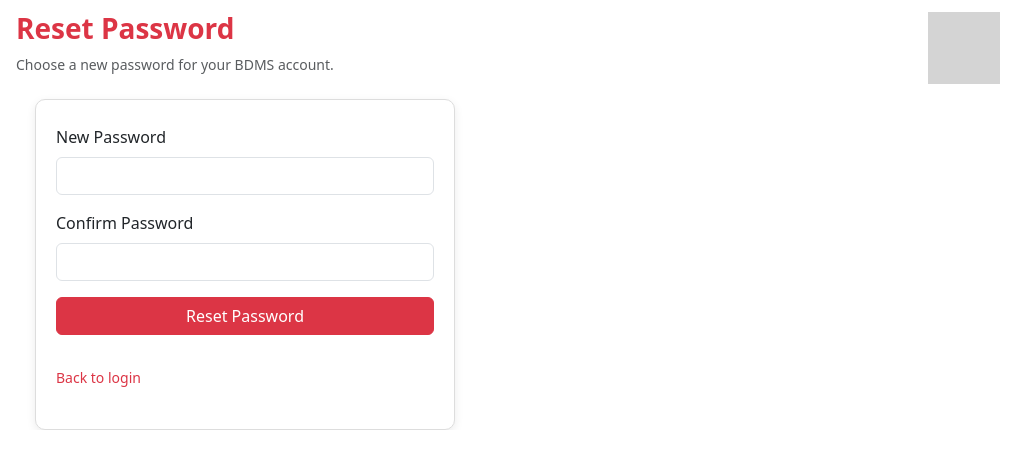
Scenario: ResetPassword › shows mismatch message when passwords differ
In the 1st password field: {"x": 245, "y": 176} [56,157,434,195], type "Password1!"
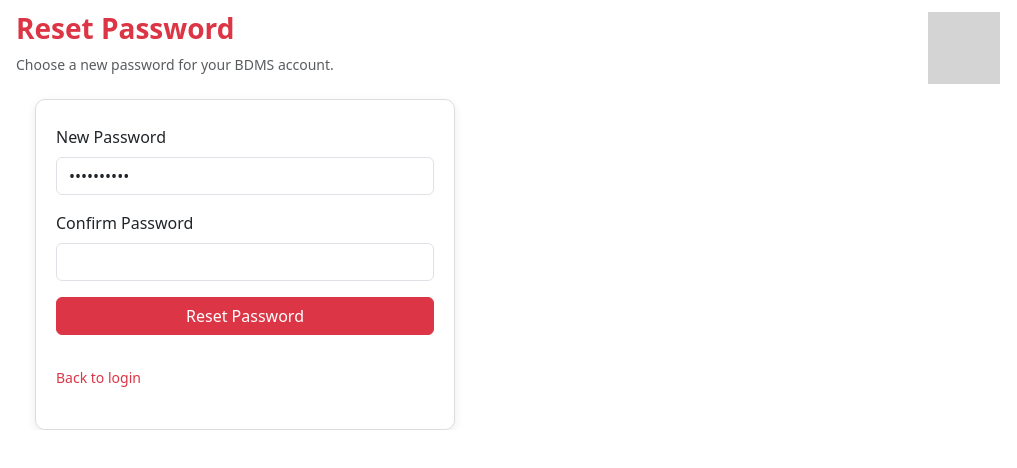
In the password field below "Confirm Password": {"x": 245, "y": 262} [56,243,434,281], type "Password2!"
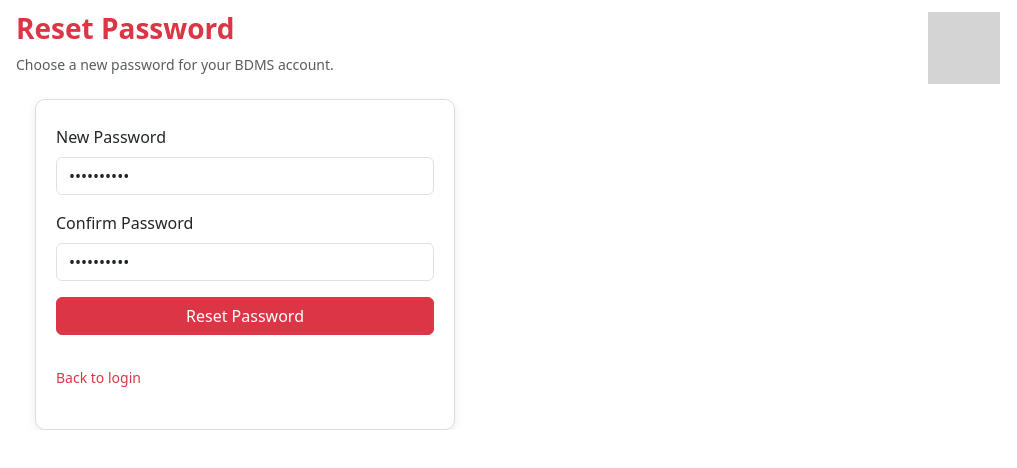
Submit the form, box [56,125,434,351]
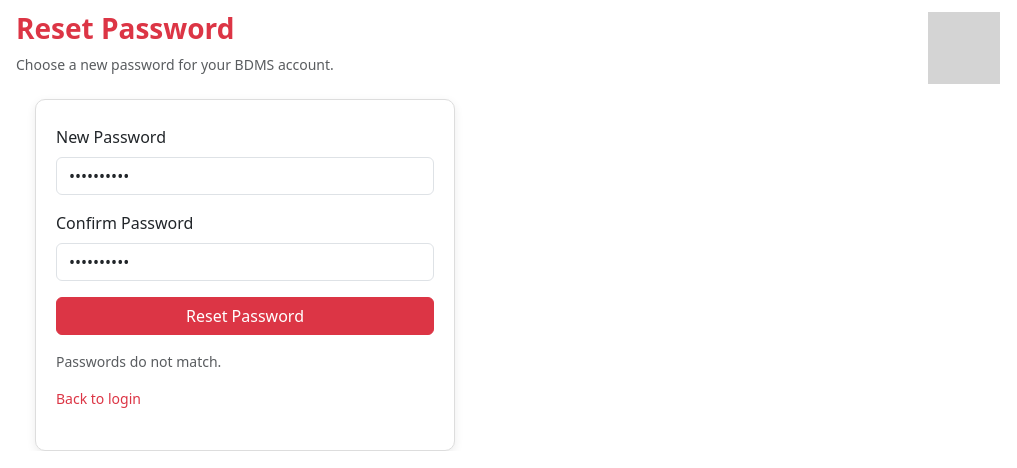
Expected: the text "Passwords do not match." is shown, [56,352,221,371]
